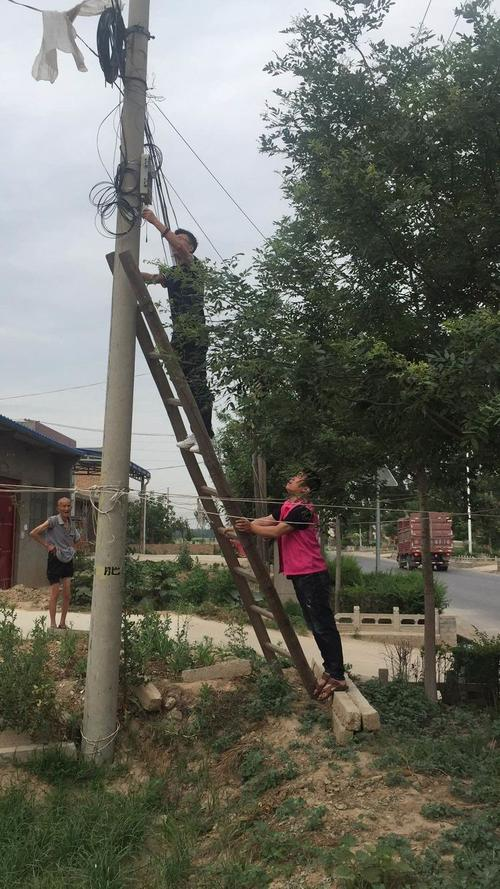安全帽、安全绳，工作服均未佩戴的工作人员: (137, 206, 218, 456)
安全帽、工作服均未穿戴的工作人员: (28, 496, 83, 630)
未带安全帽的工作人员: (231, 464, 350, 702)
